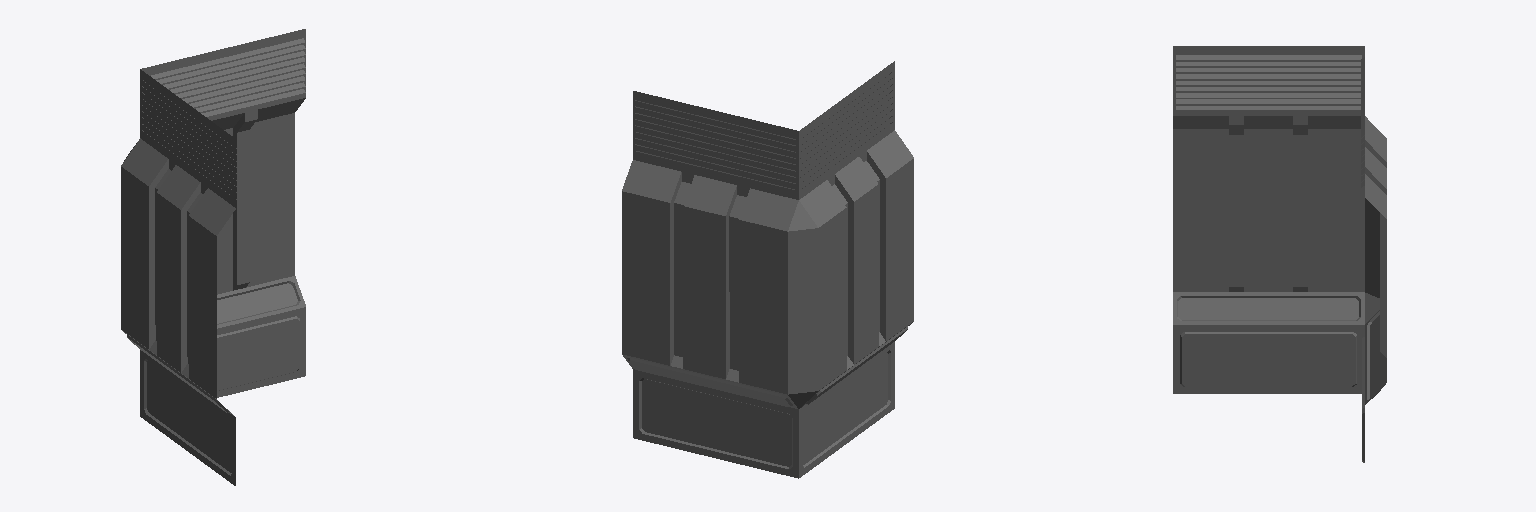
File: WallCornerIn01_HP.obj
3 renders of one model, left to right at view 1: azimuth 30°, elevation 25°; view 2: azimuth 150°, elevation 25°; view 3: azimuth 270°, elevation 25°, orthographic.
Parts seen in each view (by area): view 1: Plane001; view 2: Plane001; view 3: Plane001.
Boxes of the visible parts, box(x1,y1,x2,y2) form: Plane001: box(121, 29, 305, 485); Plane001: box(622, 61, 913, 478); Plane001: box(1173, 46, 1386, 462).
Size of the model in its own units: 286 by 512 by 286.